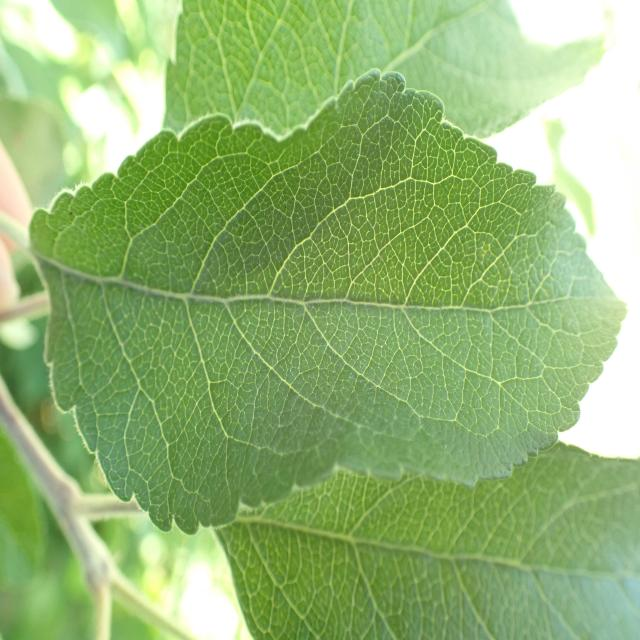healthy: (29, 70, 626, 534), (215, 438, 640, 640), (161, 0, 608, 144)
